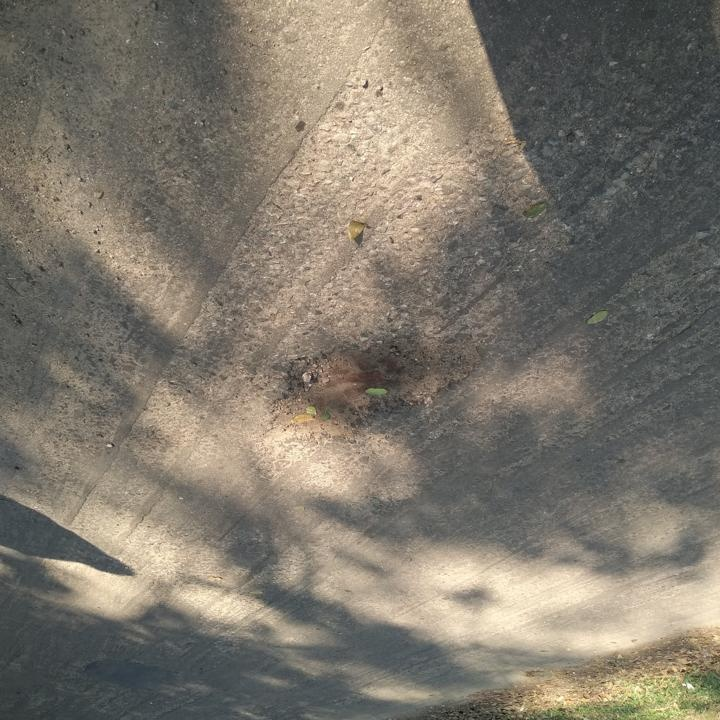pothole: (265, 326, 490, 446)
